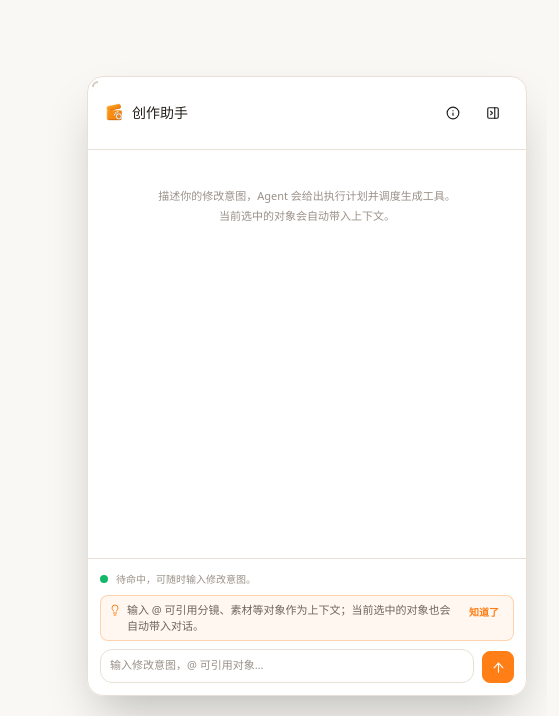
Test case: AgentDock origin/main visible fidelity › keeps workspace and collapse interactions, resizes and closes with Escape
The image size is (559, 716).
Click the button named "工作区事实" at coordinates (453, 113), box x1=436 y1=95 x2=470 y2=131
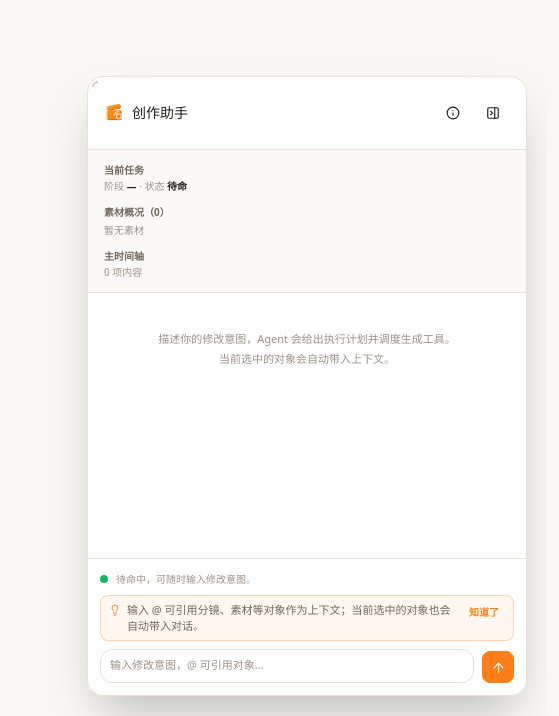
Expected: the field named "输入修改意图，@ 可引用对象…" is shown, x1=100 y1=649 x2=474 y2=683
Expected: the text "当前任务" is shown, x1=104 y1=163 x2=144 y2=177
Expected: the text "素材概况（0）" is shown, x1=104 y1=205 x2=170 y2=219
Press the mouse on the element titled "拖拽调整大小" at coordinates (95, 84), box x1=92 y1=81 x2=98 y2=87
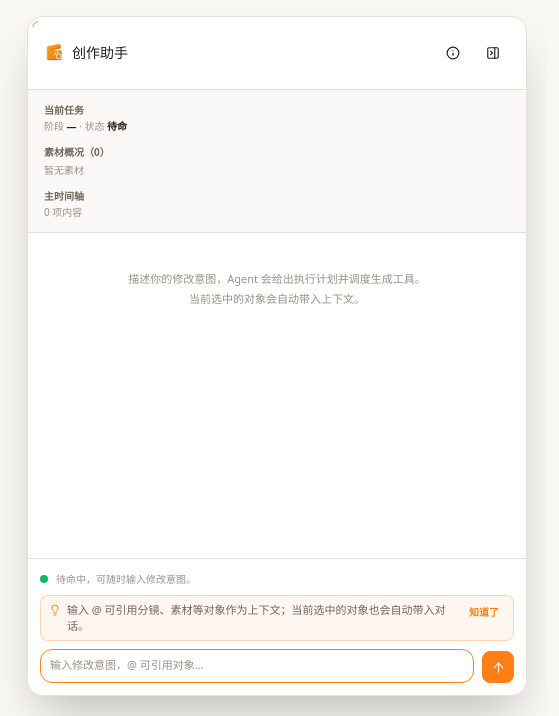
Press Escape
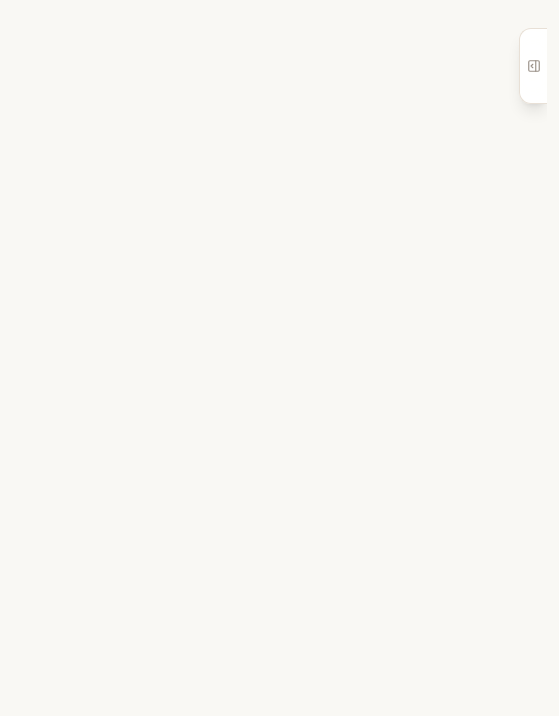
Expected: the button named "创作助手" is shown, x1=519 y1=28 x2=547 y2=104
